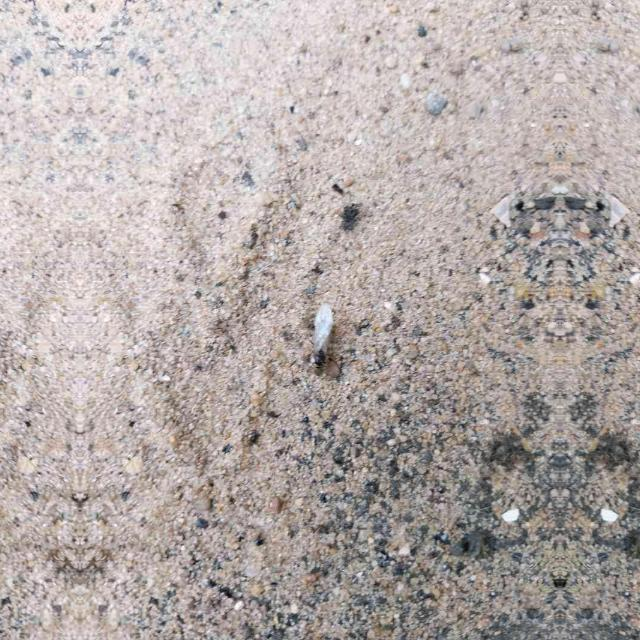Lasius: (294, 280, 344, 386)
